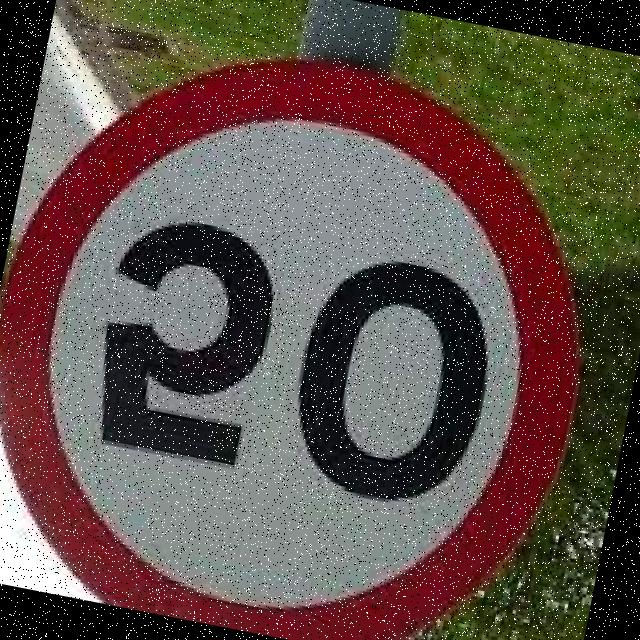speed_limit_50: (0, 5, 637, 640)
